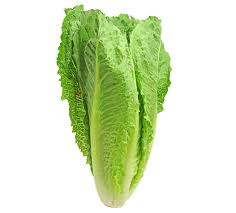Lettuce: (46, 3, 177, 210)
